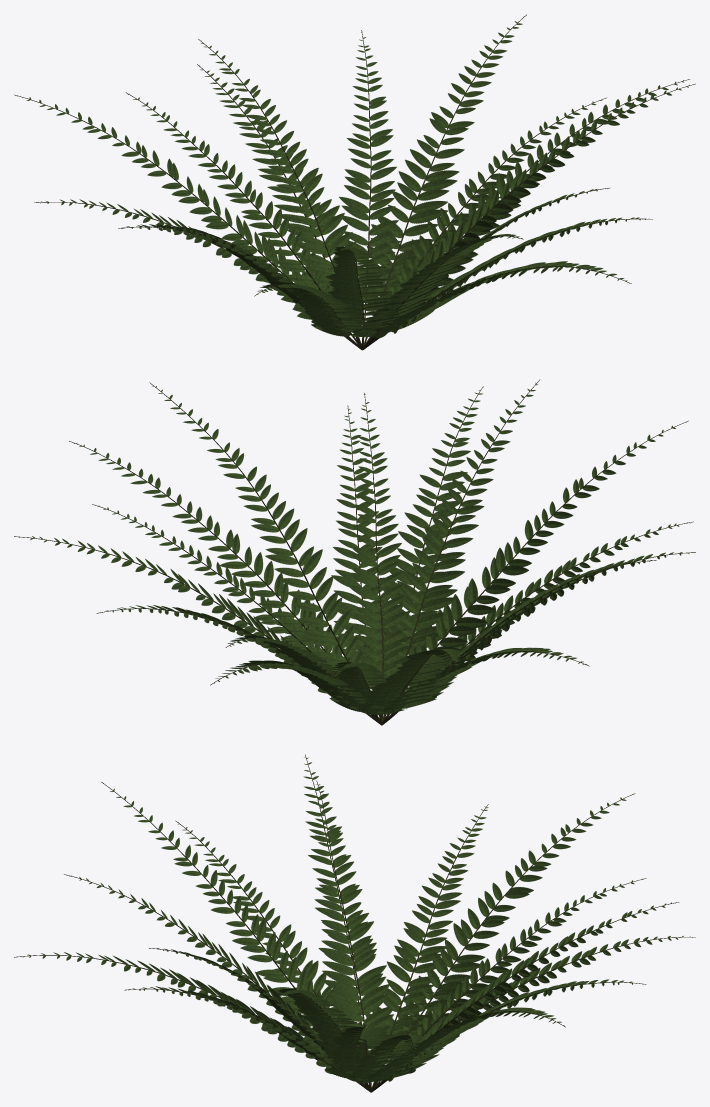
File: lady_fern_v02.glb
The picture shows the model from 3 angles, top to bottom: view 1: azimuth 30°, elevation 25°; view 2: azimuth 150°, elevation 25°; view 3: azimuth 270°, elevation 25°; orthographic projection. The views are drawn at different scales.
Parts seen in each view (by area): view 1: lady_fern_v02; view 2: lady_fern_v02; view 3: lady_fern_v02.
Part boxes in pixels (x1=…): lady_fern_v02: x1=14, y1=14, x2=695, y2=350; lady_fern_v02: x1=14, y1=379, x2=695, y2=725; lady_fern_v02: x1=14, y1=754, x2=695, y2=1092.
Bounding box in the file's own units: 1.37 × 0.5292 × 1.41.
Materials: 2 (2 with a texture image).
